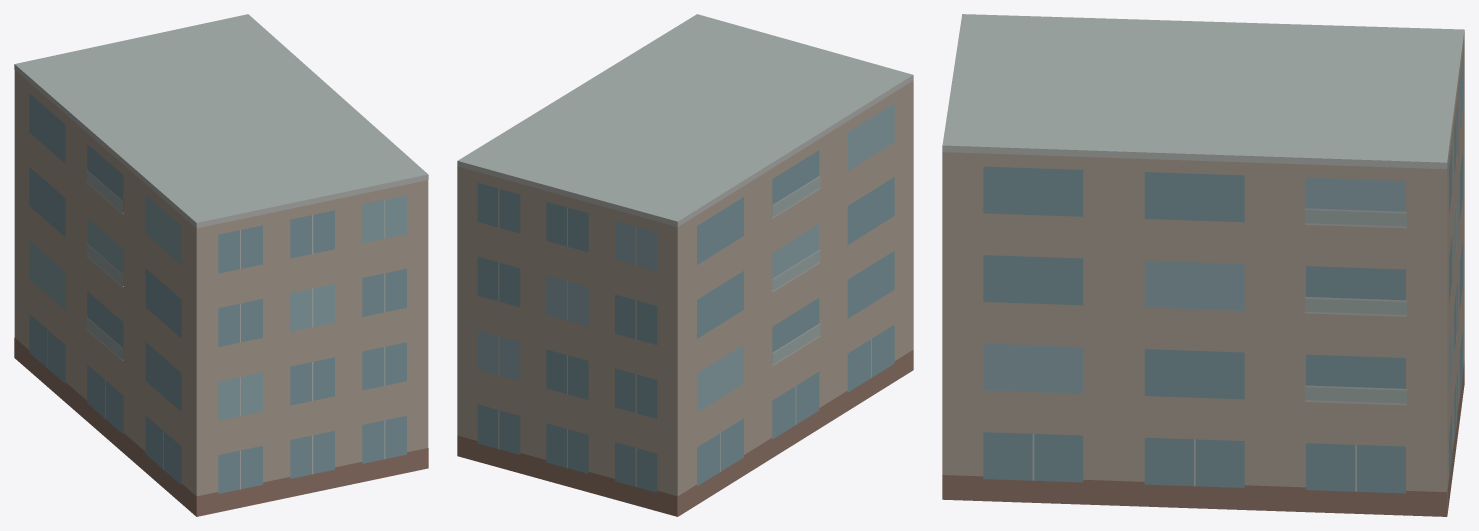
Rendered from survey-upis-32759340.glb.
The picture shows the model from 3 angles, left to right: view 1: azimuth 30°, elevation 25°; view 2: azimuth 150°, elevation 25°; view 3: azimuth 270°, elevation 25°; orthographic projection. The views are drawn at different scales.
Parts seen in each view (by area): view 1: survey-upis-32759340.tmp; view 2: survey-upis-32759340.tmp; view 3: survey-upis-32759340.tmp.
Boxes of the visible parts, box(x1,y1,x2,y2) form: survey-upis-32759340.tmp: box(14, 14, 428, 516); survey-upis-32759340.tmp: box(457, 14, 913, 516); survey-upis-32759340.tmp: box(942, 14, 1464, 516).
Size of the model in its own units: 11.85 by 13.15 by 17.58.
